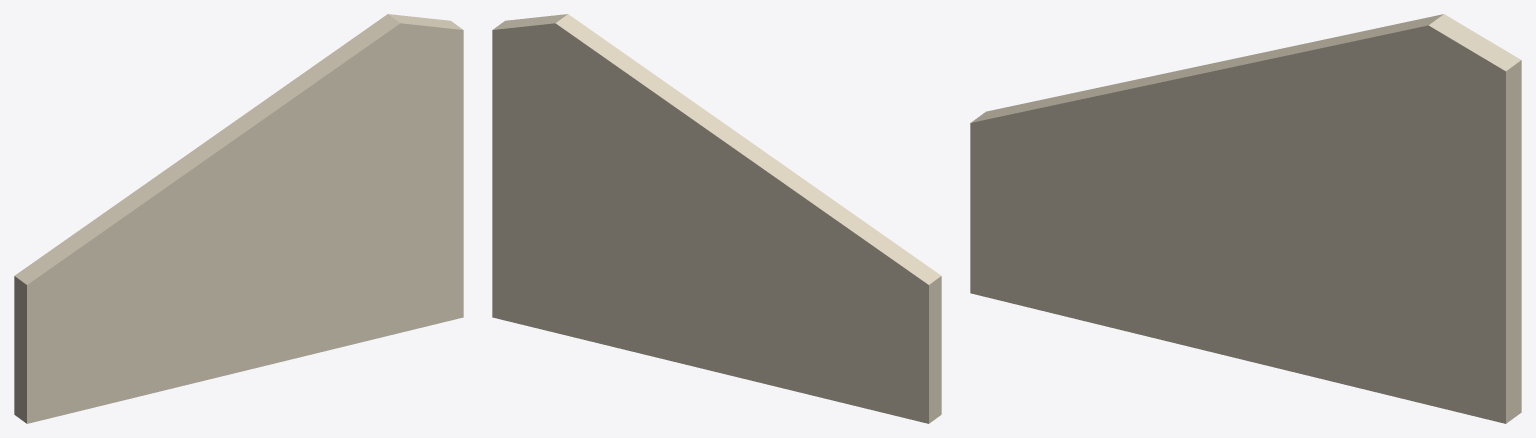
3 renders of one model, left to right at view 1: azimuth 30°, elevation 25°; view 2: azimuth 150°, elevation 25°; view 3: azimuth 330°, elevation 25°, orthographic. The views are drawn at different scales.
Parts seen in each view (by area): view 1: A-ROOF-INFILL-07; view 2: A-ROOF-INFILL-07; view 3: A-ROOF-INFILL-07.
Boxes of the visible parts, x1=… form: A-ROOF-INFILL-07: x1=14, y1=14, x2=463, y2=423; A-ROOF-INFILL-07: x1=492, y1=14, x2=941, y2=423; A-ROOF-INFILL-07: x1=970, y1=14, x2=1521, y2=423.
Size of the model in its own units: 3.18 by 2.16 by 0.16.
